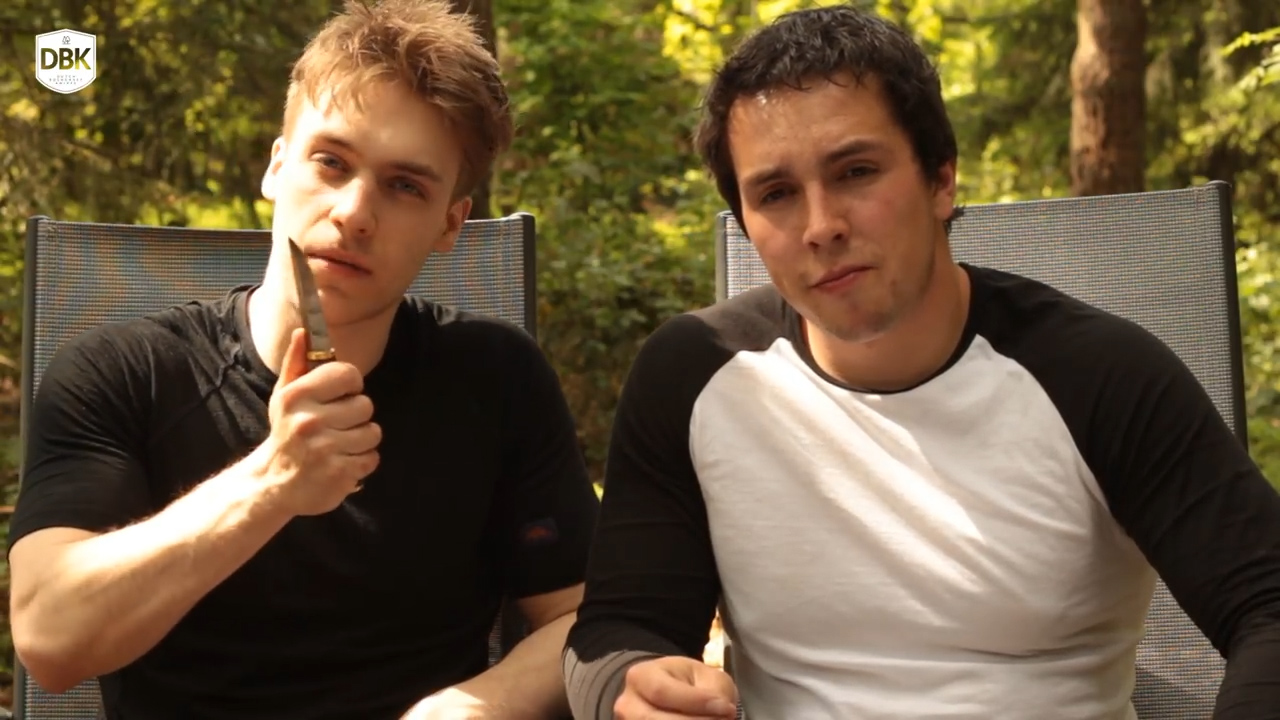knife: (267, 224, 387, 459)
